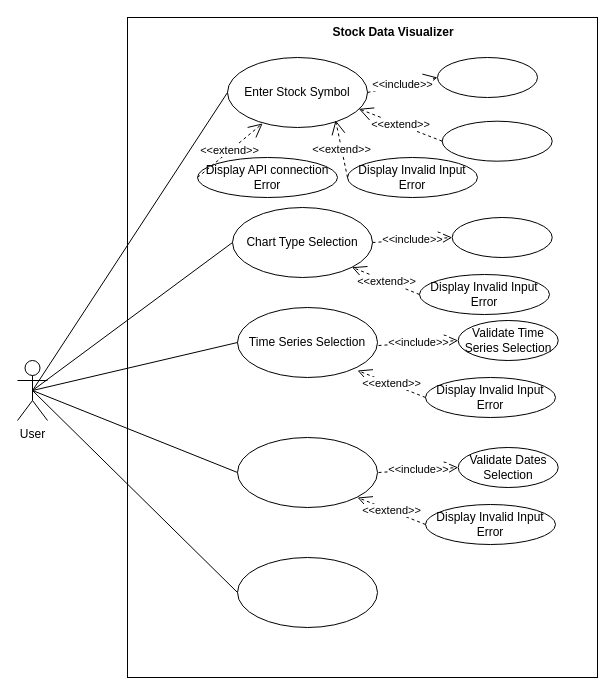
Image size: 615x695. Some labels were removed from this diagram. The shapes that lost their labels are listed below. From the top down, each one's box as (x1, y1, x2, y2) in pixels, then its label:
(436, 56, 538, 98): Validate Symbol
(441, 120, 552, 161): Display Symbol Error
(451, 216, 552, 258): Validate Chart Type
(236, 436, 378, 508): Dates Selection
(236, 556, 378, 628): Graph Generation
